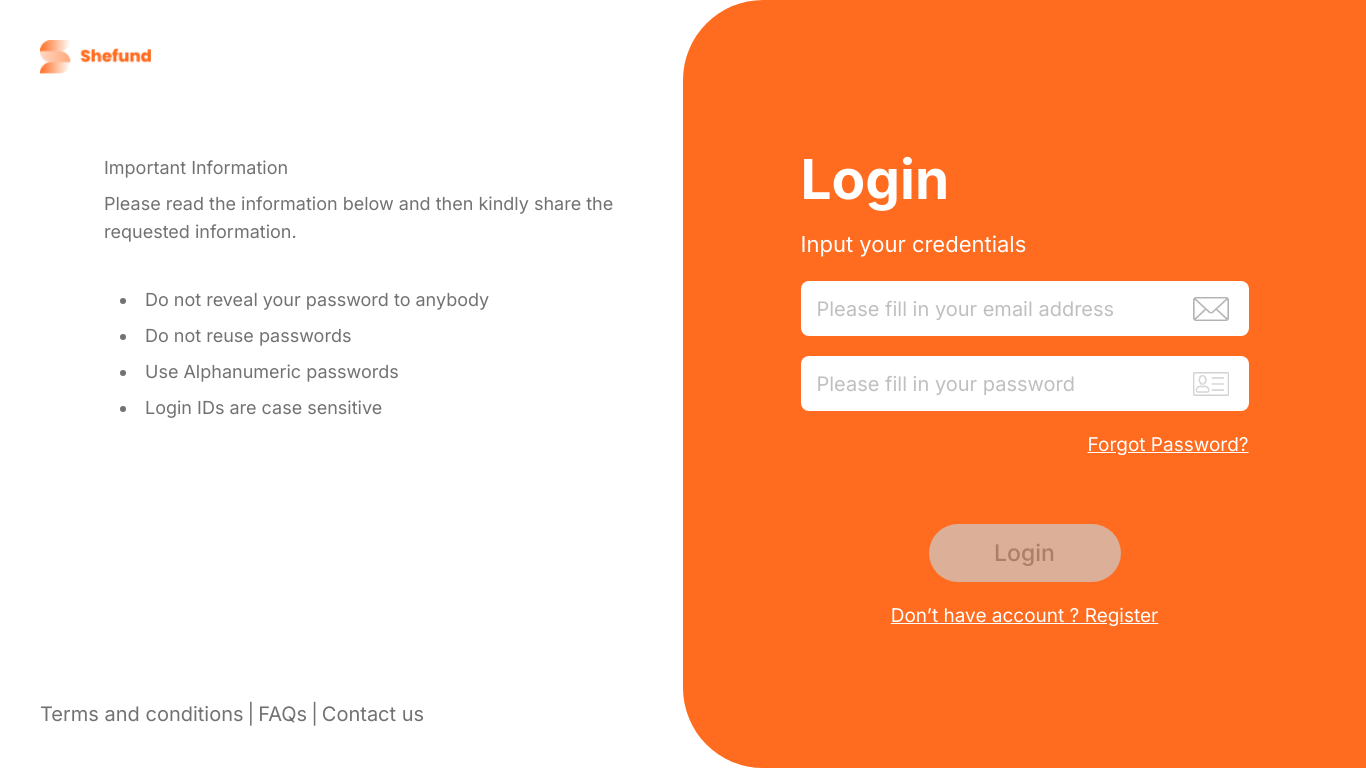
Login Page › should show error for invalid credentials
Type "wrong@example.com" into the field named "email" at {"x": 1025, "y": 309}, box [801,281,1249,336]
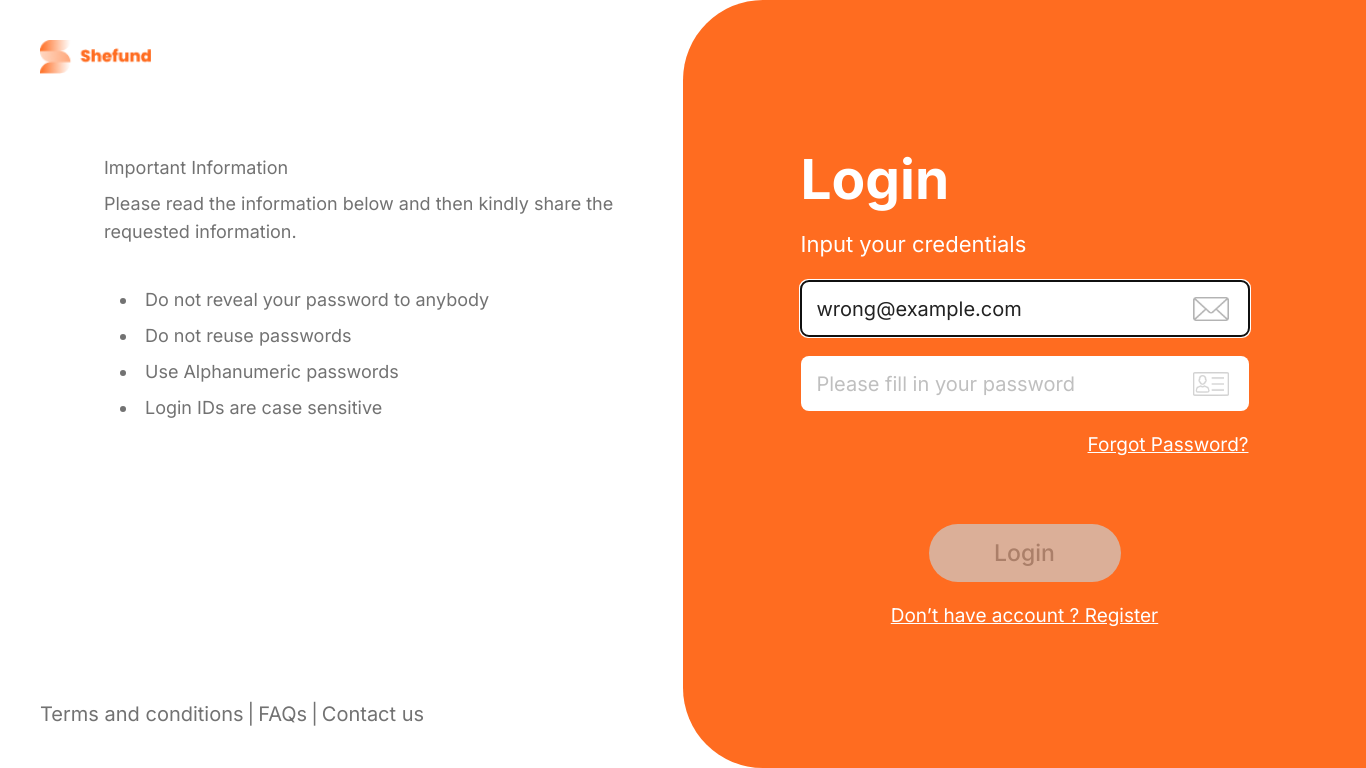
Type "wrongpass" into the password field named "password" at {"x": 1025, "y": 384}, box [801,356,1249,411]
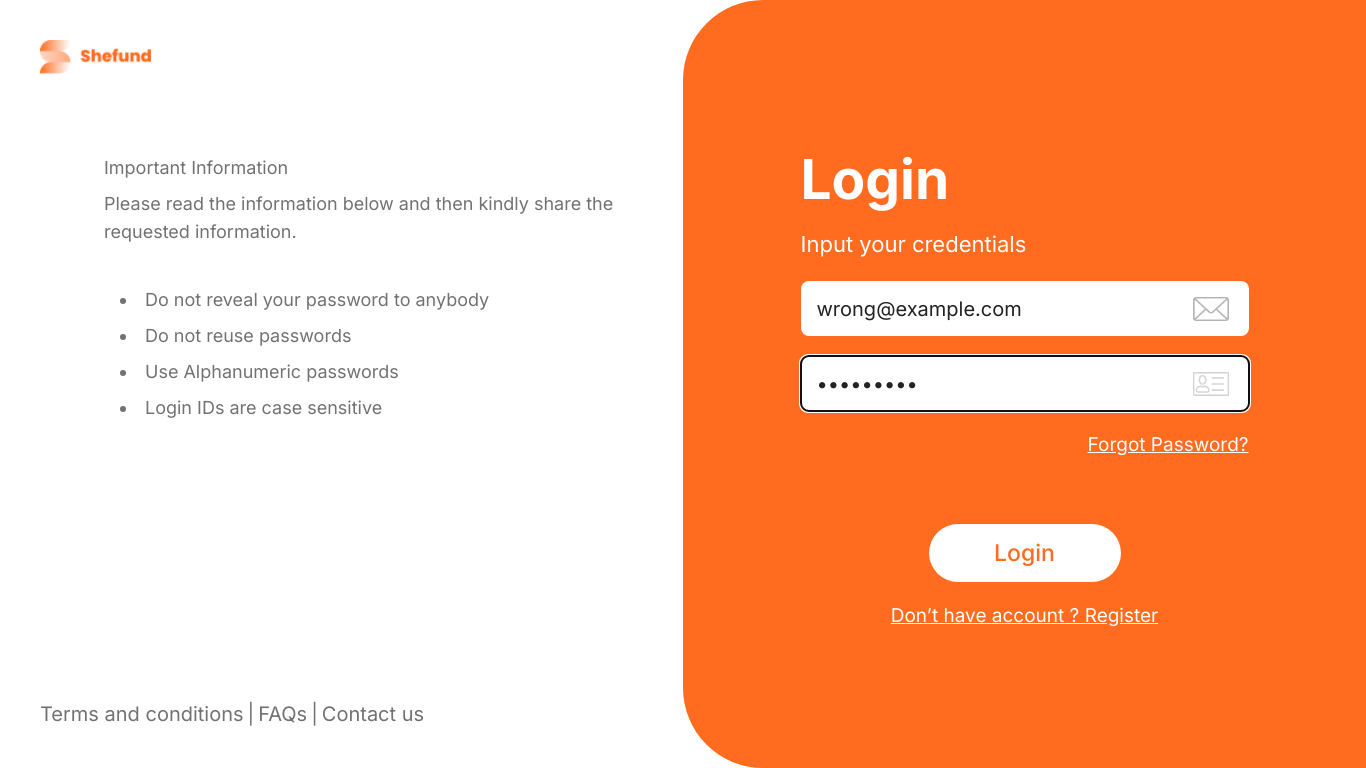
Click the submit button at {"x": 1025, "y": 554}, box [929,524,1121,583]
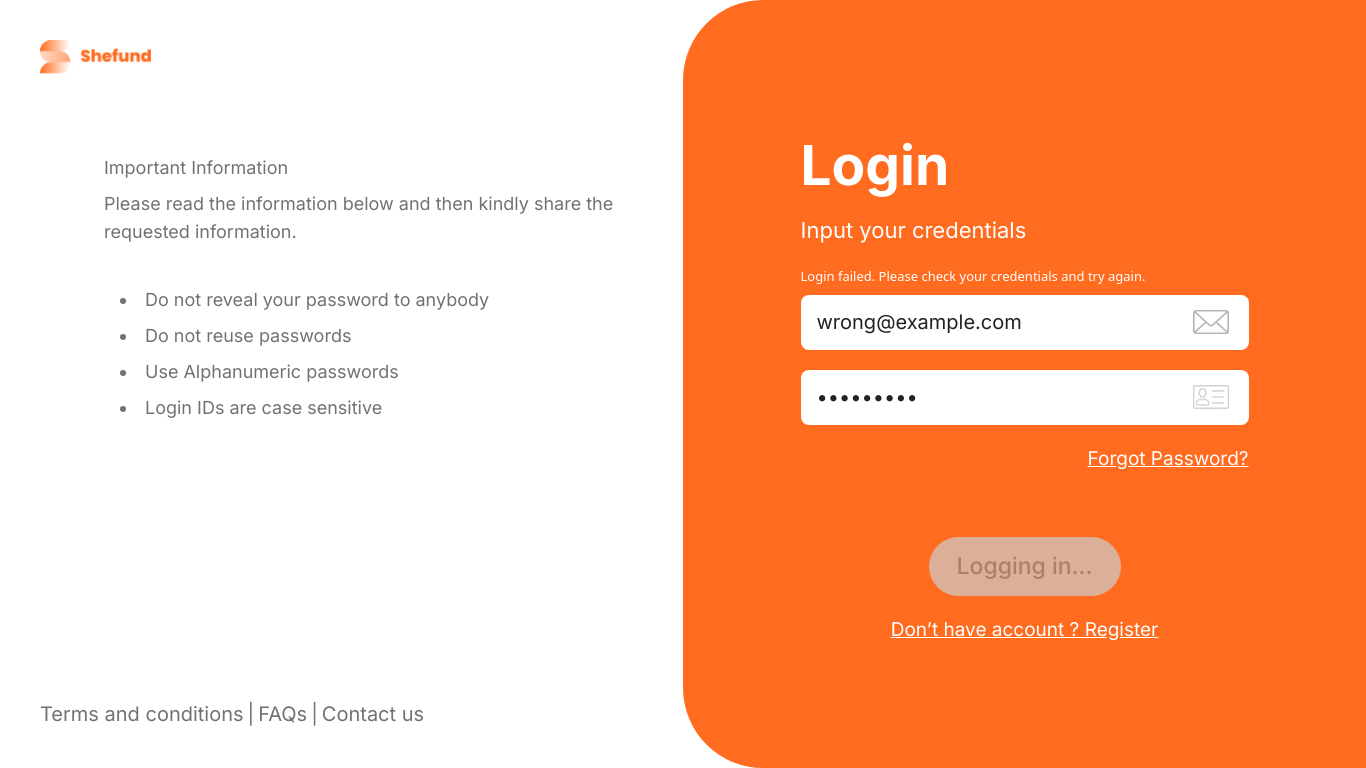
Now the text "Login failed" is shown, box [801,267,1146,285]
